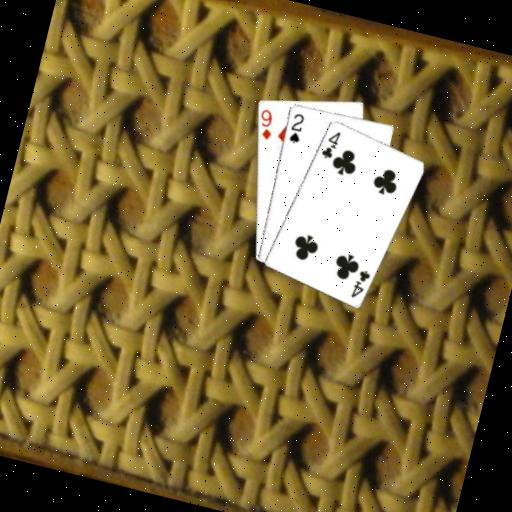2S: (285, 109, 308, 146)
4C: (347, 265, 373, 302), (318, 125, 343, 161)
9D: (252, 105, 279, 142)
